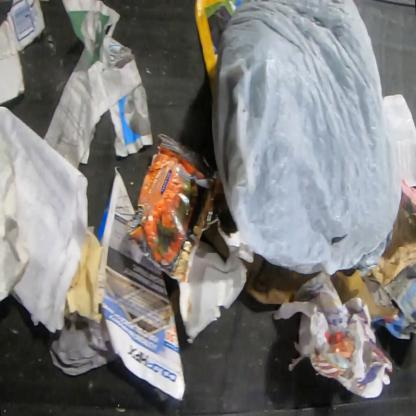cardboard: (0, 0, 47, 107), (244, 254, 319, 305), (330, 269, 397, 320)
soft_plastic: (211, 0, 403, 277), (126, 134, 225, 284)
